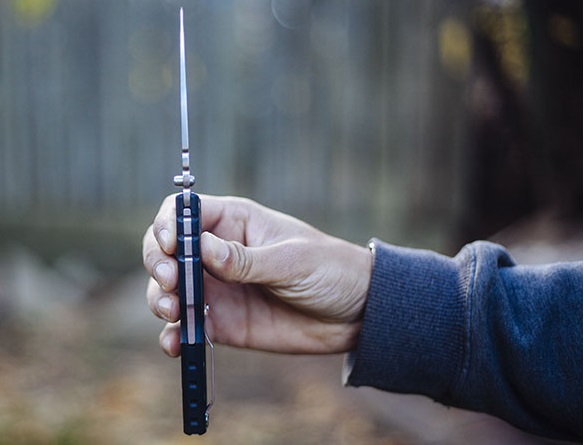knife: (136, 5, 219, 439)
